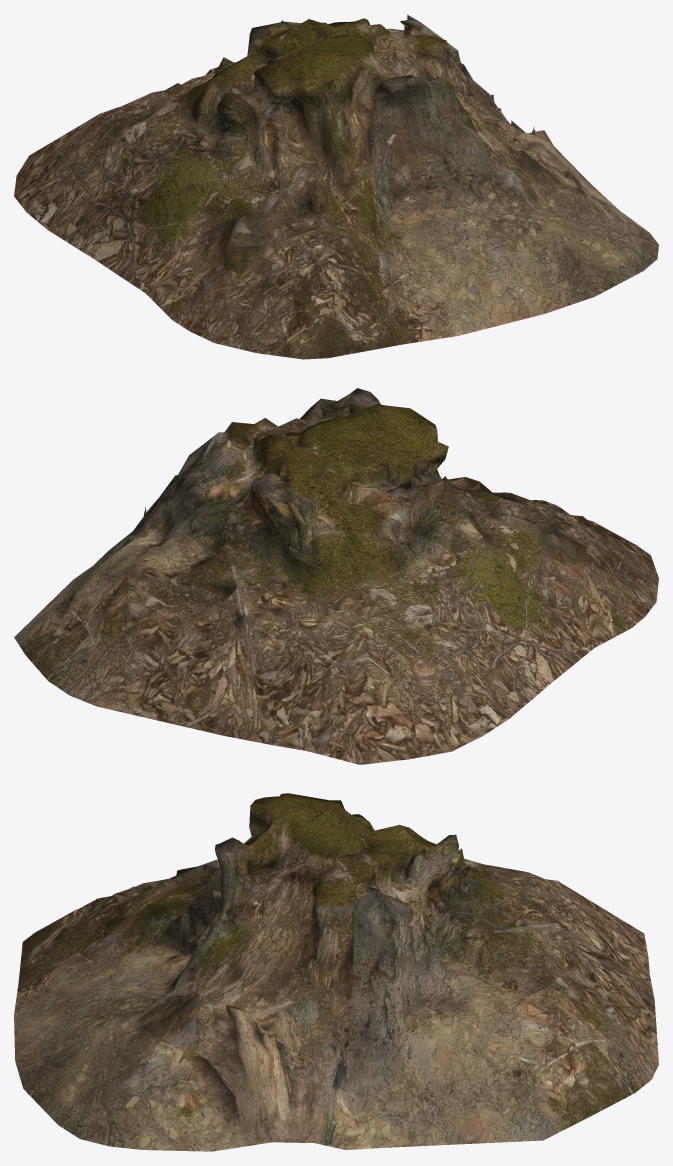
File: tree_stump_01.glb
3 renders of one model, top to bottom at view 1: azimuth 30°, elevation 25°; view 2: azimuth 150°, elevation 25°; view 3: azimuth 270°, elevation 25°, orthographic. The views are drawn at different scales.
Parts seen in each view (by area): view 1: tree_stump_01; view 2: tree_stump_01; view 3: tree_stump_01.
Boxes of the visible parts, bbox=[...] form: tree_stump_01: bbox=[14, 14, 658, 359]; tree_stump_01: bbox=[14, 388, 658, 764]; tree_stump_01: bbox=[14, 793, 658, 1151].
Size of the model in its own units: 1.43 by 0.571 by 1.59.
Materials: 1 (1 with a texture image).
